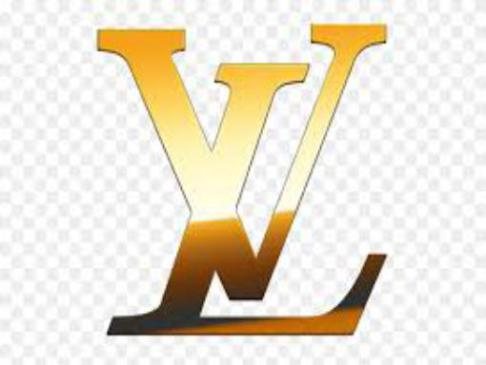LOUIS-VUITTON: (84, 8, 397, 350)
